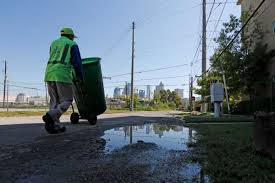pothole: (104, 117, 196, 159)
